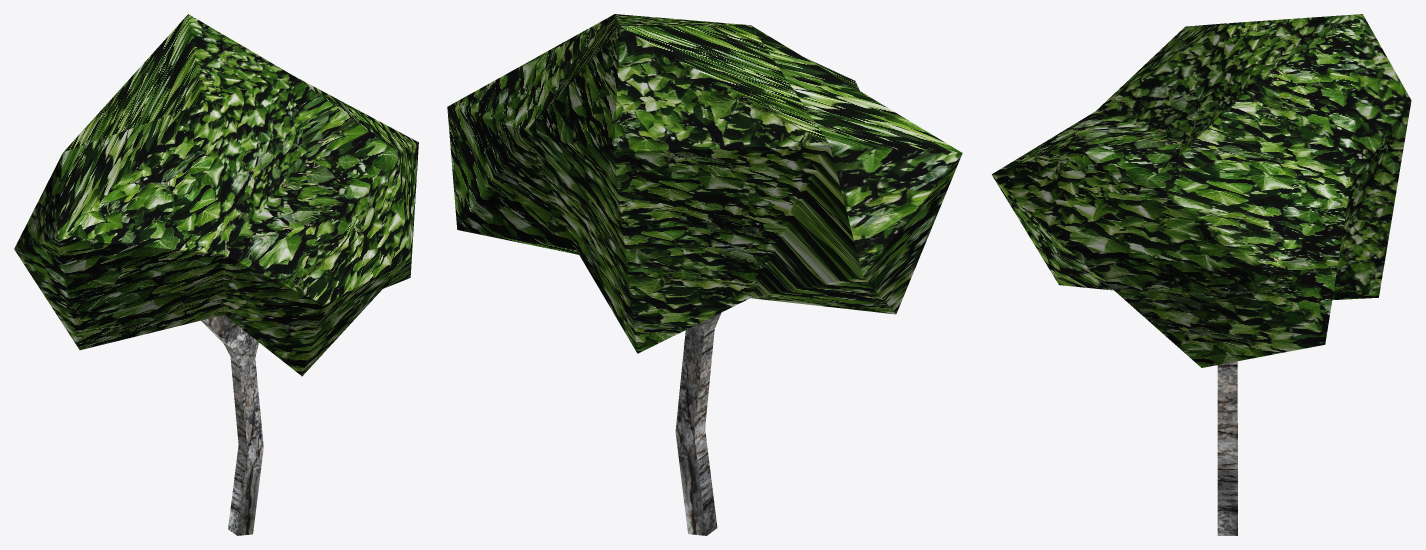
Rendered from Arbol_lp.obj.
The picture shows the model from 3 angles, left to right: view 1: azimuth 30°, elevation 25°; view 2: azimuth 150°, elevation 25°; view 3: azimuth 270°, elevation 25°; orthographic projection. The views are drawn at different scales.
Visible parts, largest first — view 1: Mball.008_Mesh, Vert; view 2: Mball.008_Mesh, Vert; view 3: Mball.008_Mesh, Vert.
Boxes of the visible parts, <box> form: Mball.008_Mesh: <box>14,14,418,376</box>; Vert: <box>201,315,263,535</box>; Mball.008_Mesh: <box>447,14,962,353</box>; Vert: <box>675,313,721,535</box>; Mball.008_Mesh: <box>991,14,1411,367</box>; Vert: <box>1217,361,1237,535</box>.
Size of the model in its own units: 7.83 by 8.83 by 6.44.
